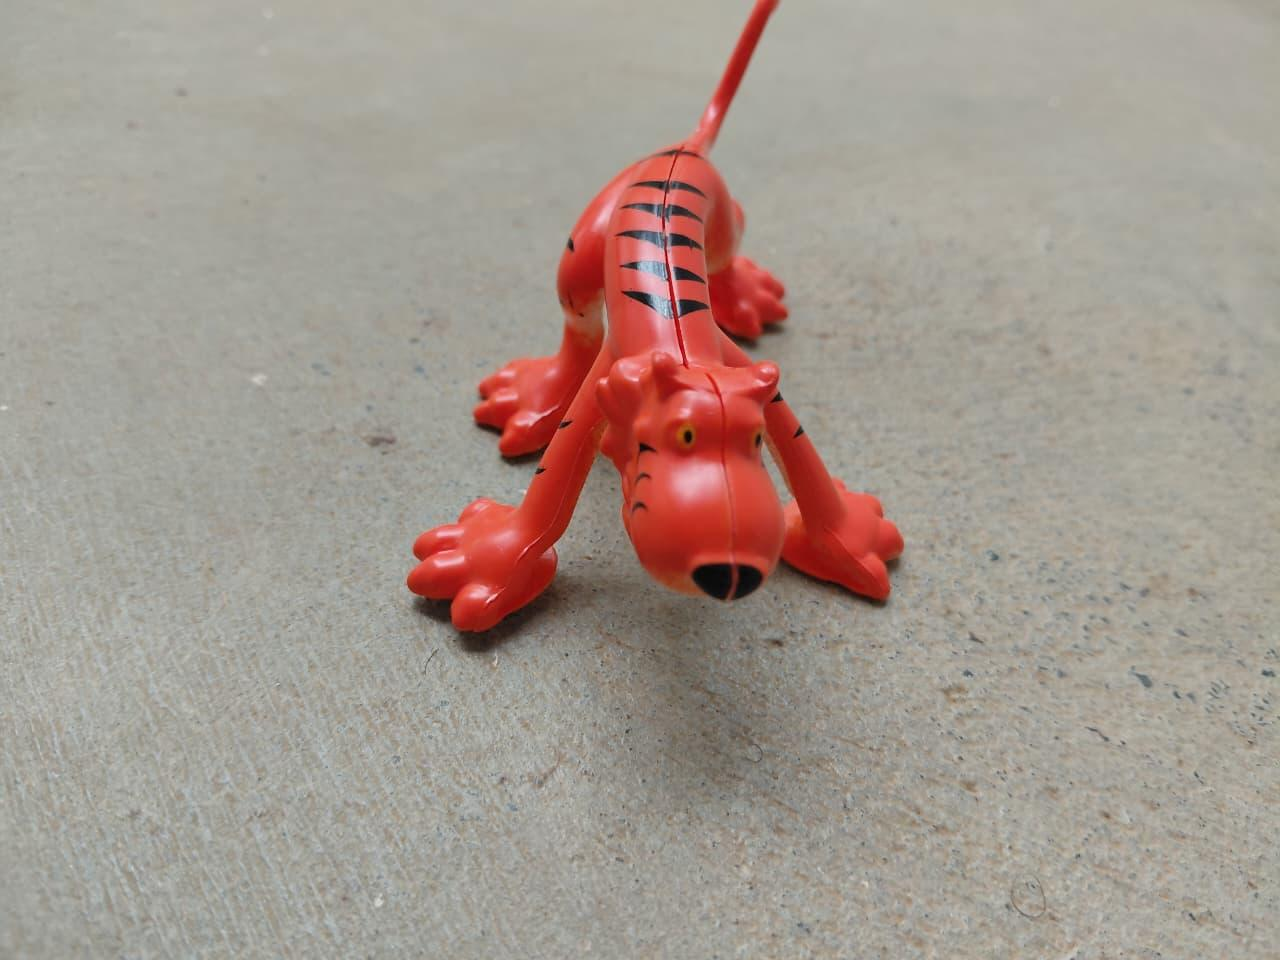tiger: (406, 12, 918, 656)
